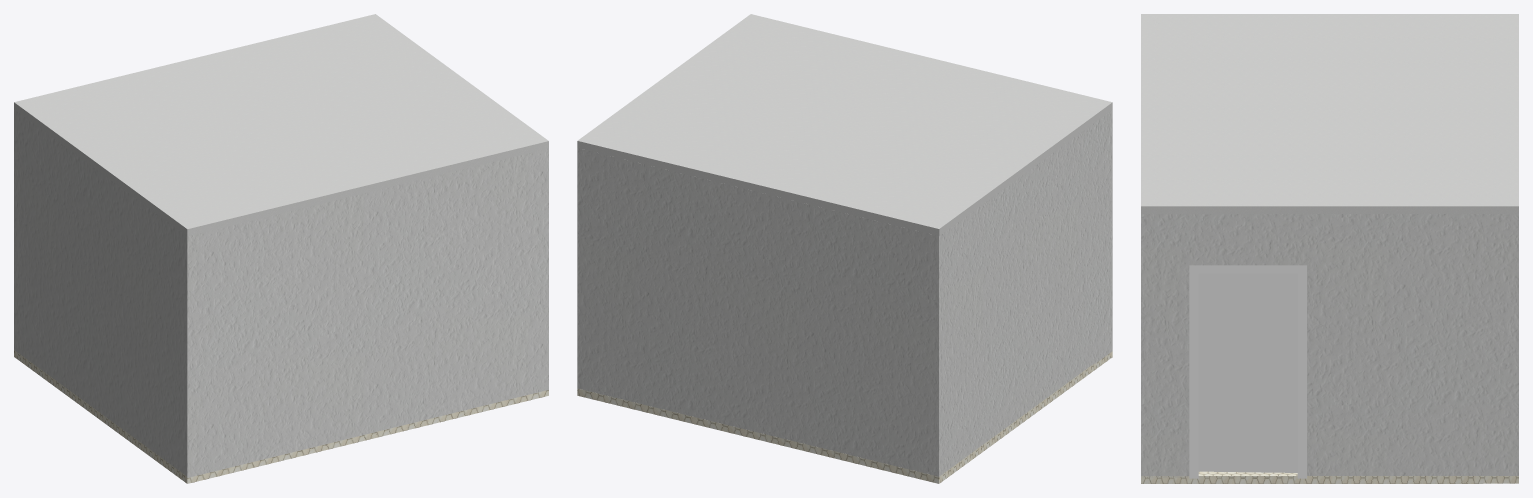
Rendered from FloorPlan404_physics.fbx.
3 renders of one model, left to right at view 1: azimuth 30°, elevation 25°; view 2: azimuth 150°, elevation 25°; view 3: azimuth 270°, elevation 25°, orthographic. The views are drawn at different scales.
Visible parts, largest first — view 1: FP404:Walls, FP404:Ceiling, FP404:Floor; view 2: FP404:Walls, FP404:Ceiling, FP404:Floor; view 3: FP404:Ceiling, FP404:Walls, FP404:polySurface386, FP404:polySurface159, FP404:Floor.
Boxes of the visible parts, x1=… form: FP404:Walls: x1=14, y1=109, x2=548, y2=477; FP404:Ceiling: x1=14, y1=14, x2=548, y2=236; FP404:Floor: x1=14, y1=350, x2=548, y2=483; FP404:Walls: x1=577, y1=110, x2=1112, y2=476; FP404:Ceiling: x1=577, y1=14, x2=1112, y2=235; FP404:Floor: x1=577, y1=351, x2=1112, y2=483; FP404:Ceiling: x1=1141, y1=14, x2=1518, y2=214; FP404:Walls: x1=1141, y1=214, x2=1518, y2=477; FP404:polySurface386: x1=1198, y1=273, x2=1297, y2=472; FP404:polySurface159: x1=1189, y1=265, x2=1306, y2=478; FP404:Floor: x1=1141, y1=471, x2=1518, y2=483.
Size of the model in its own units: 433 by 291 by 359.
